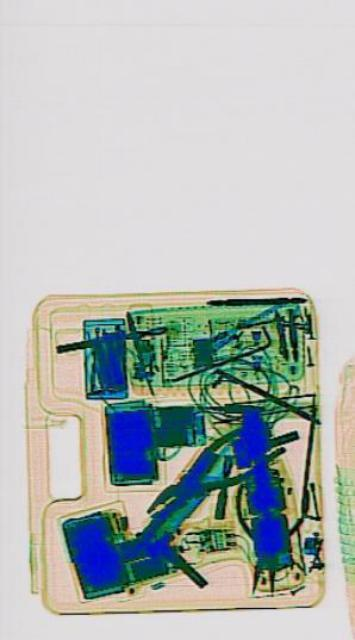Pliers: (139, 409, 268, 539), (225, 464, 308, 604)
